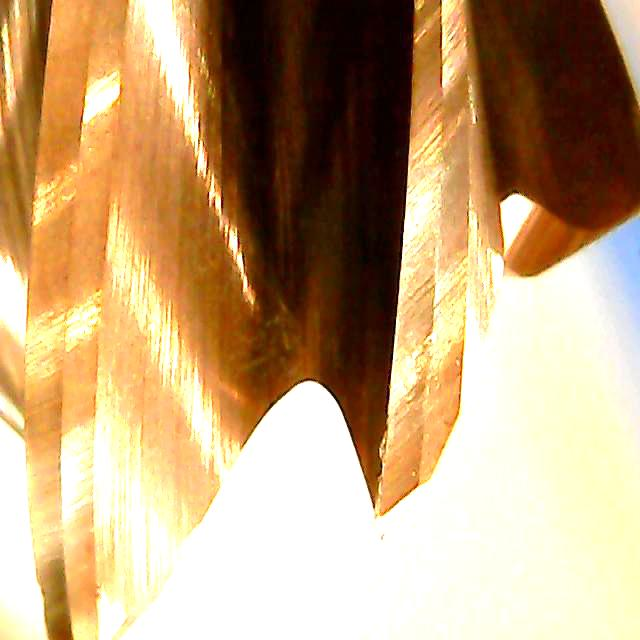Tool-wear-class-0: (351, 182, 501, 545)
